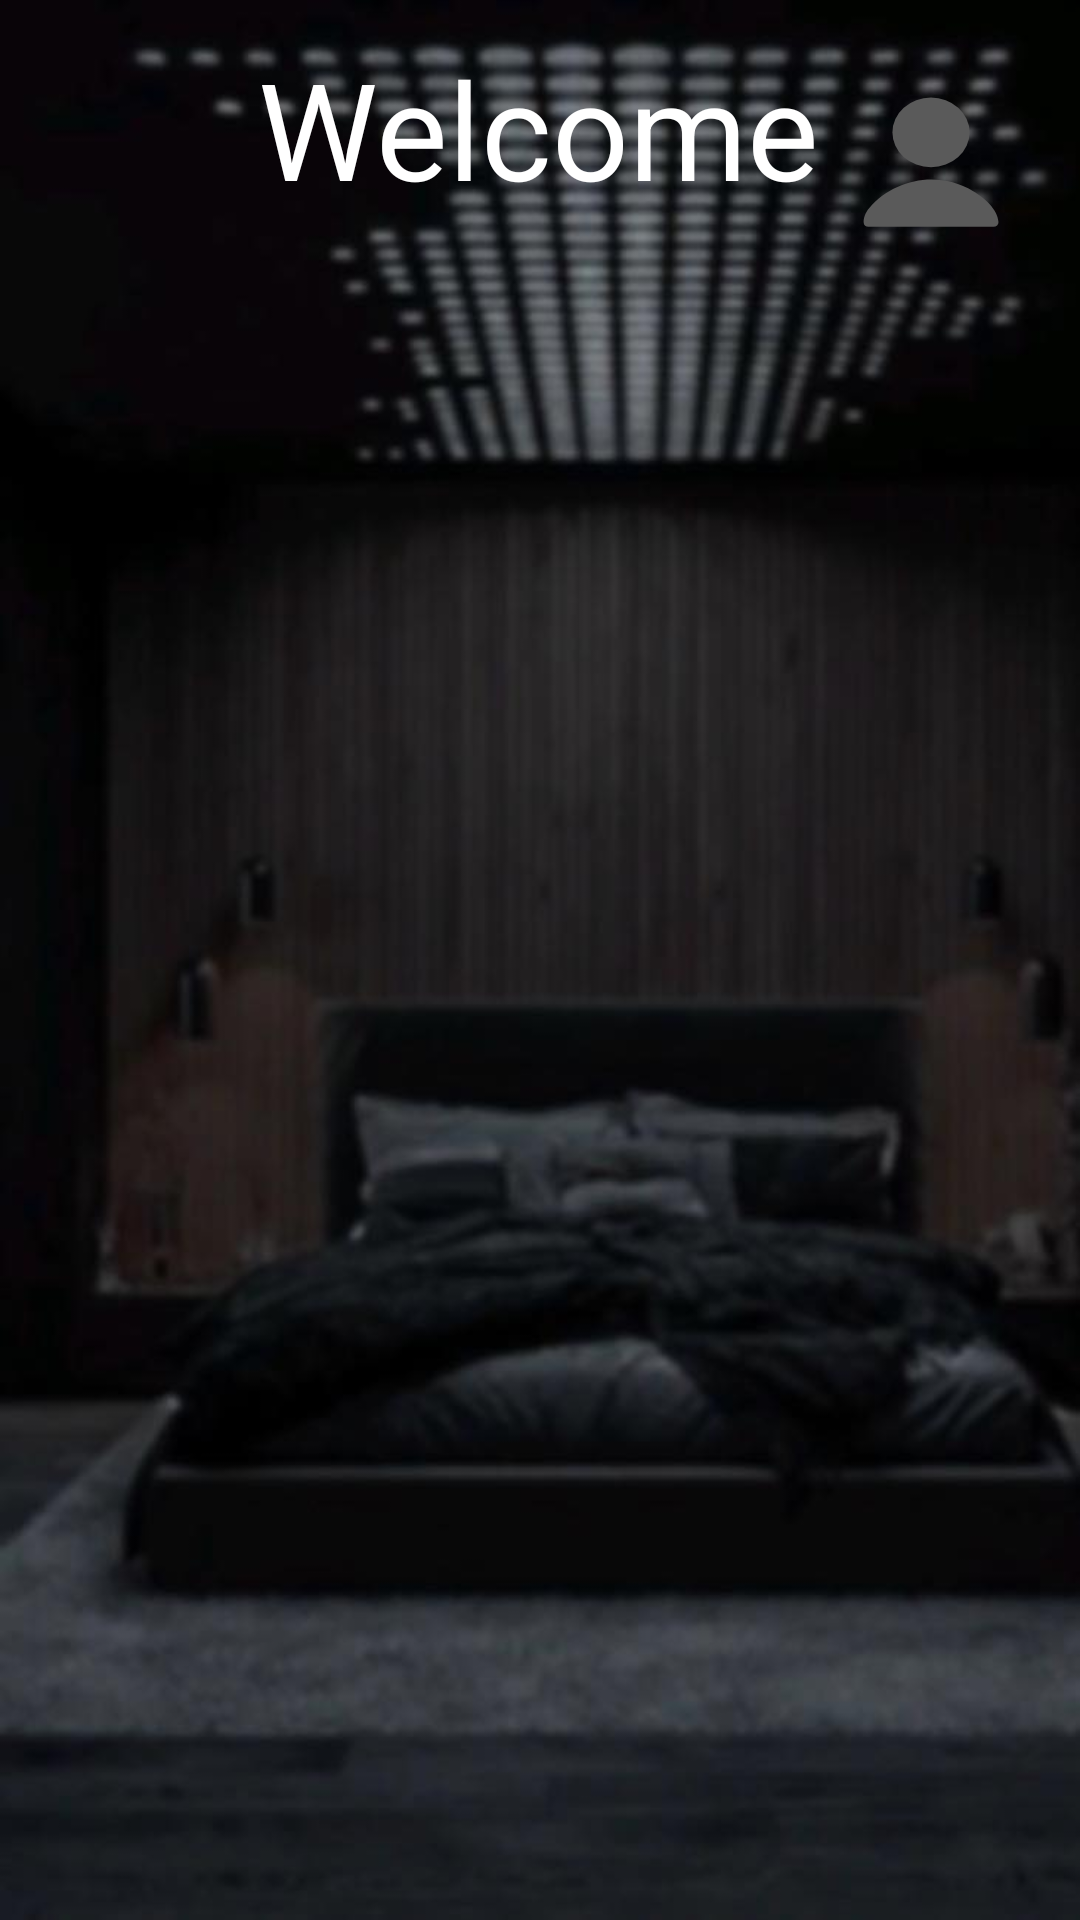

Named icons in this screenshot (1080 x 1920) and their bounding boxes, (x1, y1, x2, y2):
bottom userprofile: (839, 47, 1021, 188)
